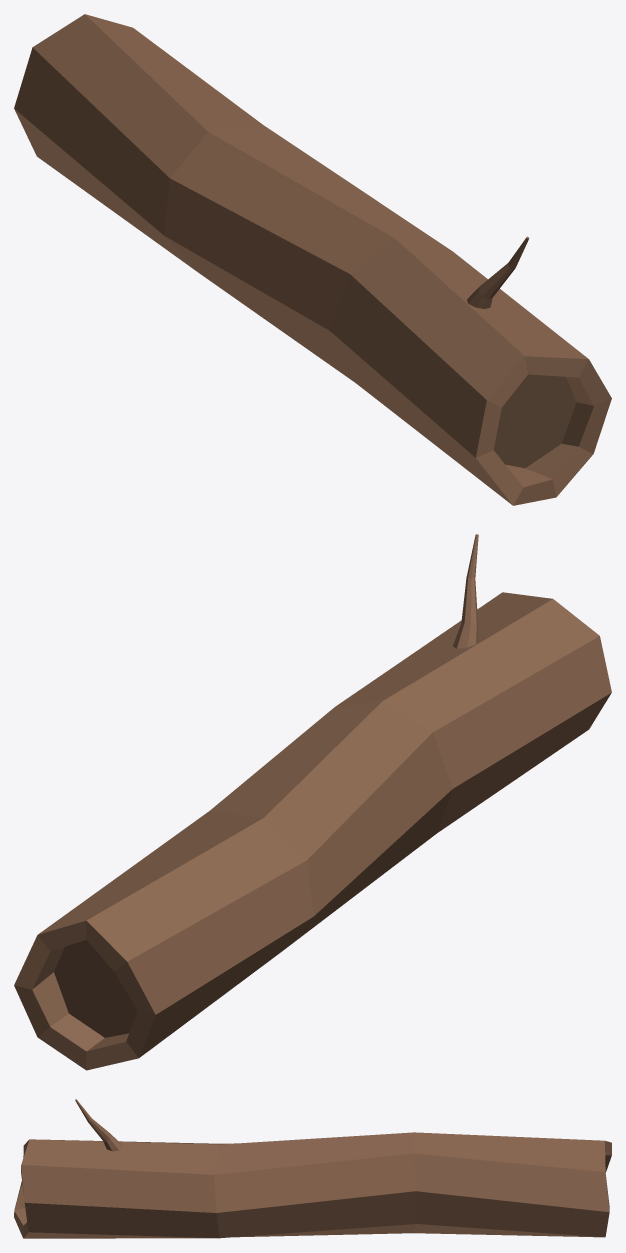
File: env_treelog_mesh_01_v1.glb
3 views of the same model, one above another, from view 1: azimuth 30°, elevation 25°; view 2: azimuth 150°, elevation 25°; view 3: azimuth 270°, elevation 25° (orthographic). The views are drawn at different scales.
Parts seen in each view (by area): view 1: Log; view 2: Log; view 3: Log.
Part boxes in pixels (box(x1,y1,x2,y2)): Log: box(14, 14, 611, 505); Log: box(14, 534, 611, 1070); Log: box(14, 1099, 611, 1238).
Size of the model in its own units: 1.45 by 2.08 by 7.82.
